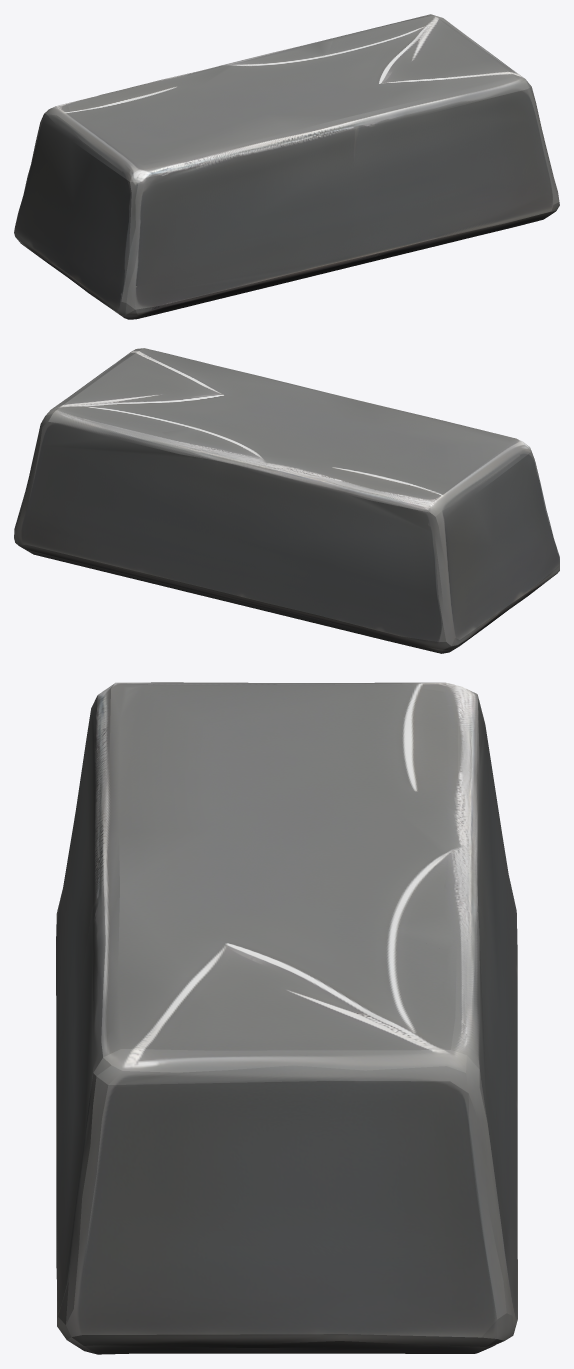
The model's file is base_basic_pbr.fbx.
3 views of the same model, one above another, from view 1: azimuth 30°, elevation 25°; view 2: azimuth 150°, elevation 25°; view 3: azimuth 270°, elevation 25° (orthographic). The views are drawn at different scales.
Parts seen in each view (by area): view 1: model; view 2: model; view 3: model.
Part boxes in pixels (<box>): model: <box>14,14,559,319</box>; model: <box>14,348,559,653</box>; model: <box>56,682,517,1354</box>.
Bounding box in the file's own units: 185 × 57.31 × 83.64.
1 material, 1 textured.
